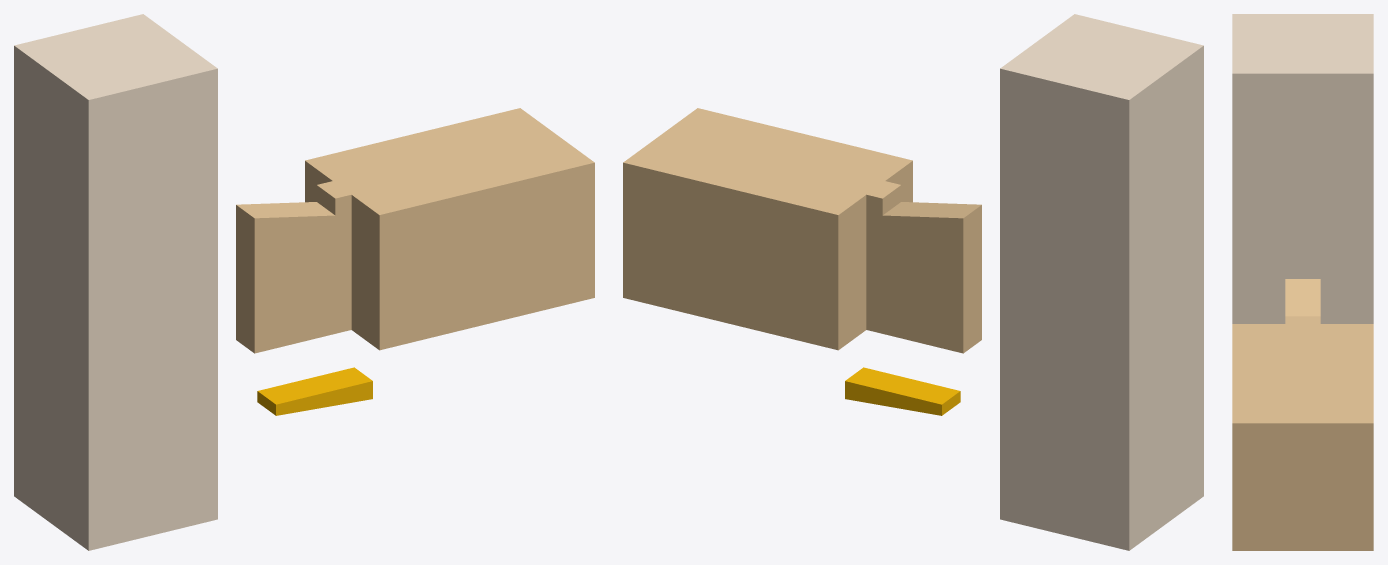
3 renders of one model, left to right at view 1: azimuth 30°, elevation 25°; view 2: azimuth 150°, elevation 25°; view 3: azimuth 270°, elevation 25°, orthographic. The views are drawn at different scales.
Bounding box in the file's own units: 0.4465 × 0.38 × 0.114.
